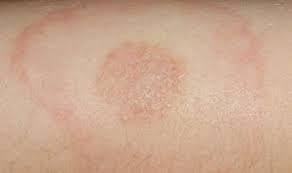Tick: (89, 33, 189, 132)
